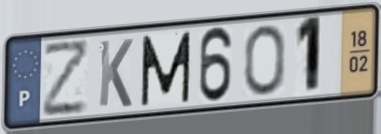1: (293, 13, 323, 98)
6: (197, 25, 234, 105)
K: (96, 37, 135, 110)
M: (139, 29, 194, 110)
O: (242, 23, 288, 98)
Z: (42, 36, 92, 120)
